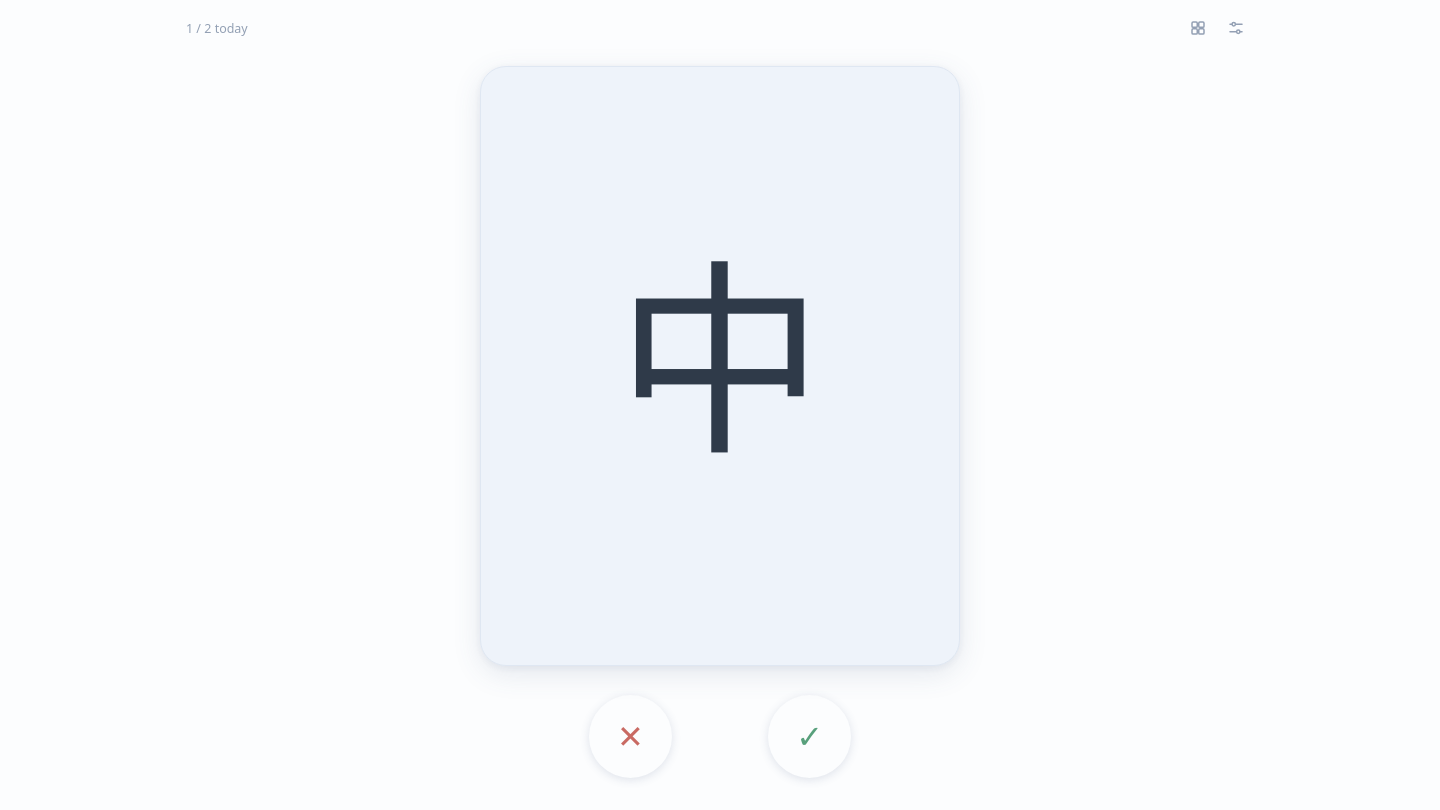
Test case: daily lesson › cross flips the card to details and records the fail
Step 1. Click the button named "Don't know" → (630, 736), box [589,695,672,778]
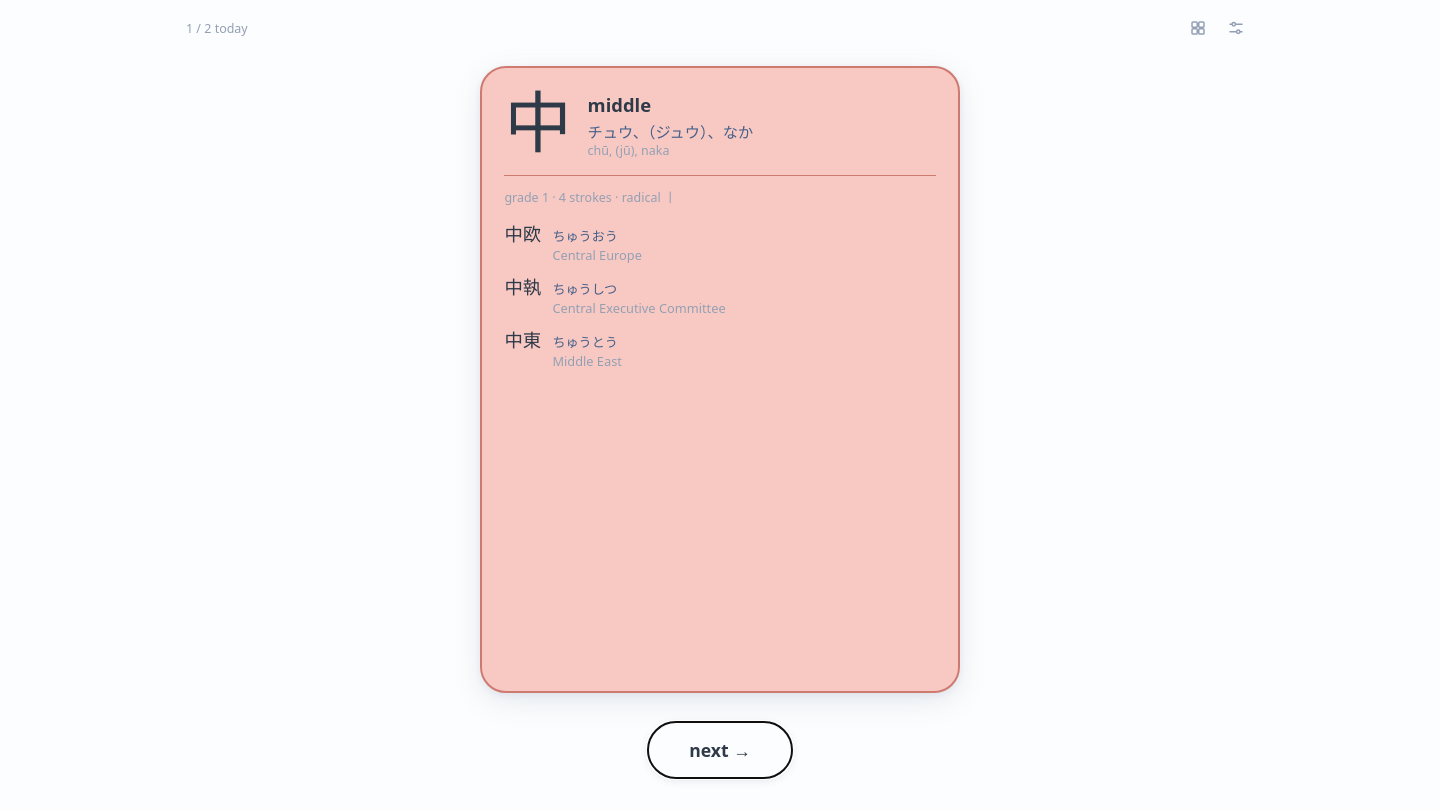
Now the button "next →" is shown, box [648,722,792,778]
